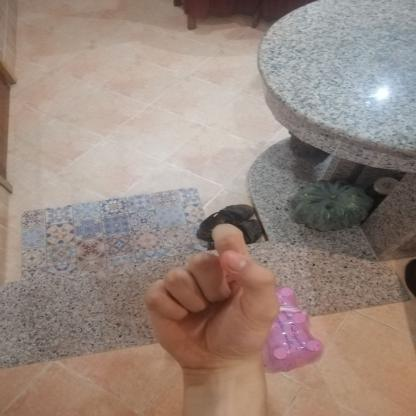FAA: (127, 212, 290, 384)
